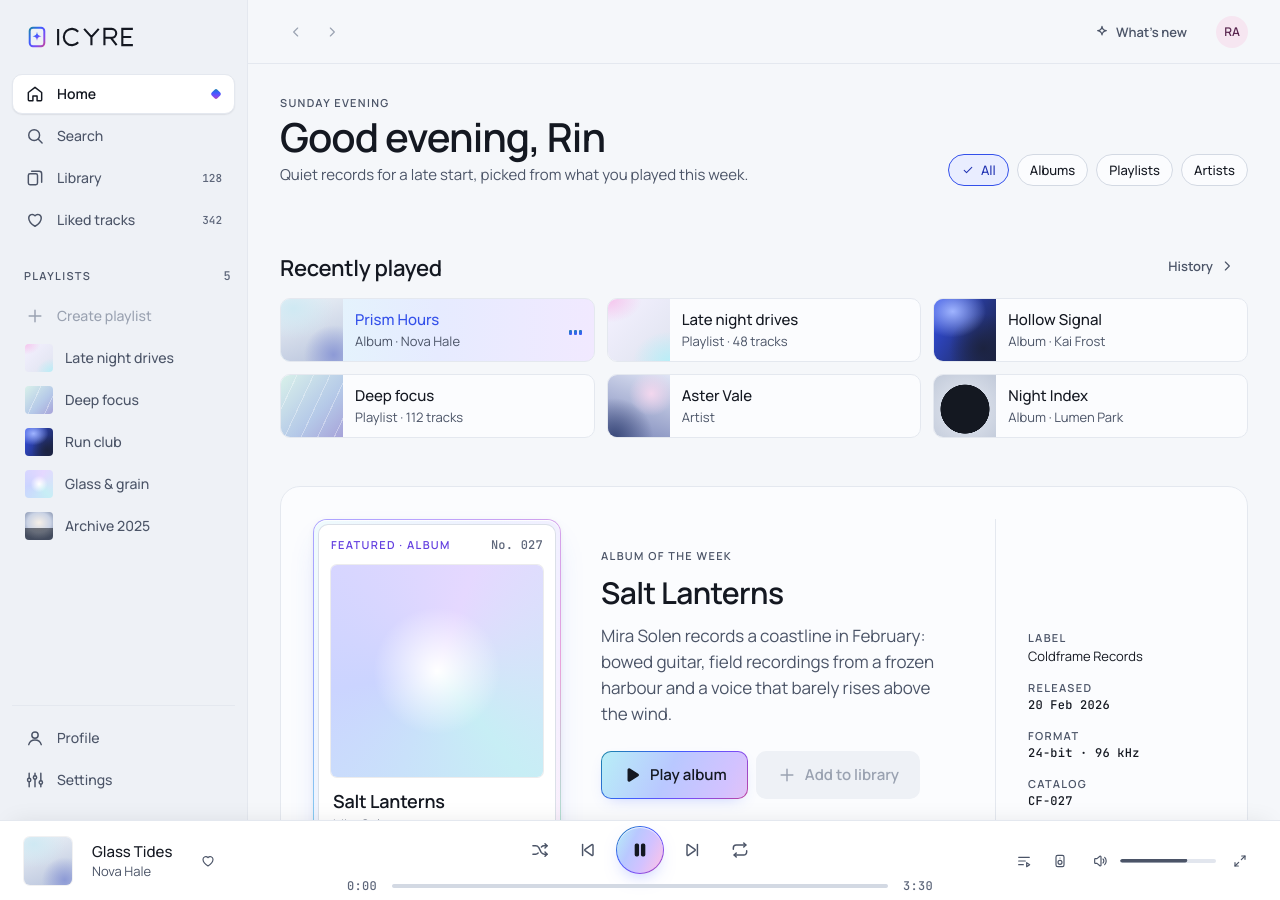
Test: PlayerBar — Queue drawer, Like, Device picker, Expanded player › opens the expanded player, controls playback, likes, and navigates to the album
Click the button named "Open expanded player" at {"x": 1240, "y": 860}, box [1224,844,1256,876]
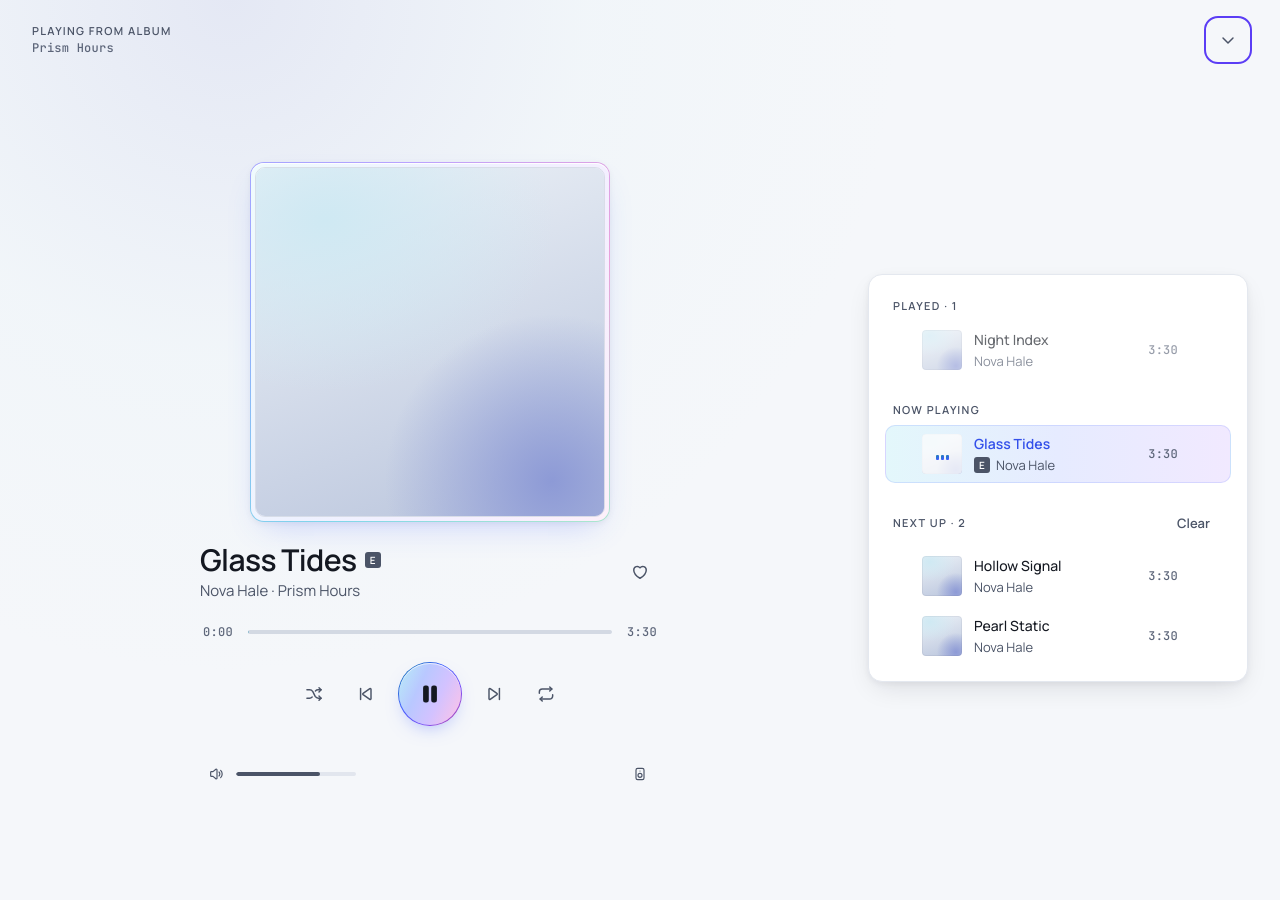
expect the heading "Glass Tides" is shown: met, box [200,542,356,578]
expect the text "Playing from album" is shown: met, box [32,24,172,38]
// Toggle play/pause inside expanded player.
Click the button named "Pause" at {"x": 430, "y": 694}, box [398,662,462,726]
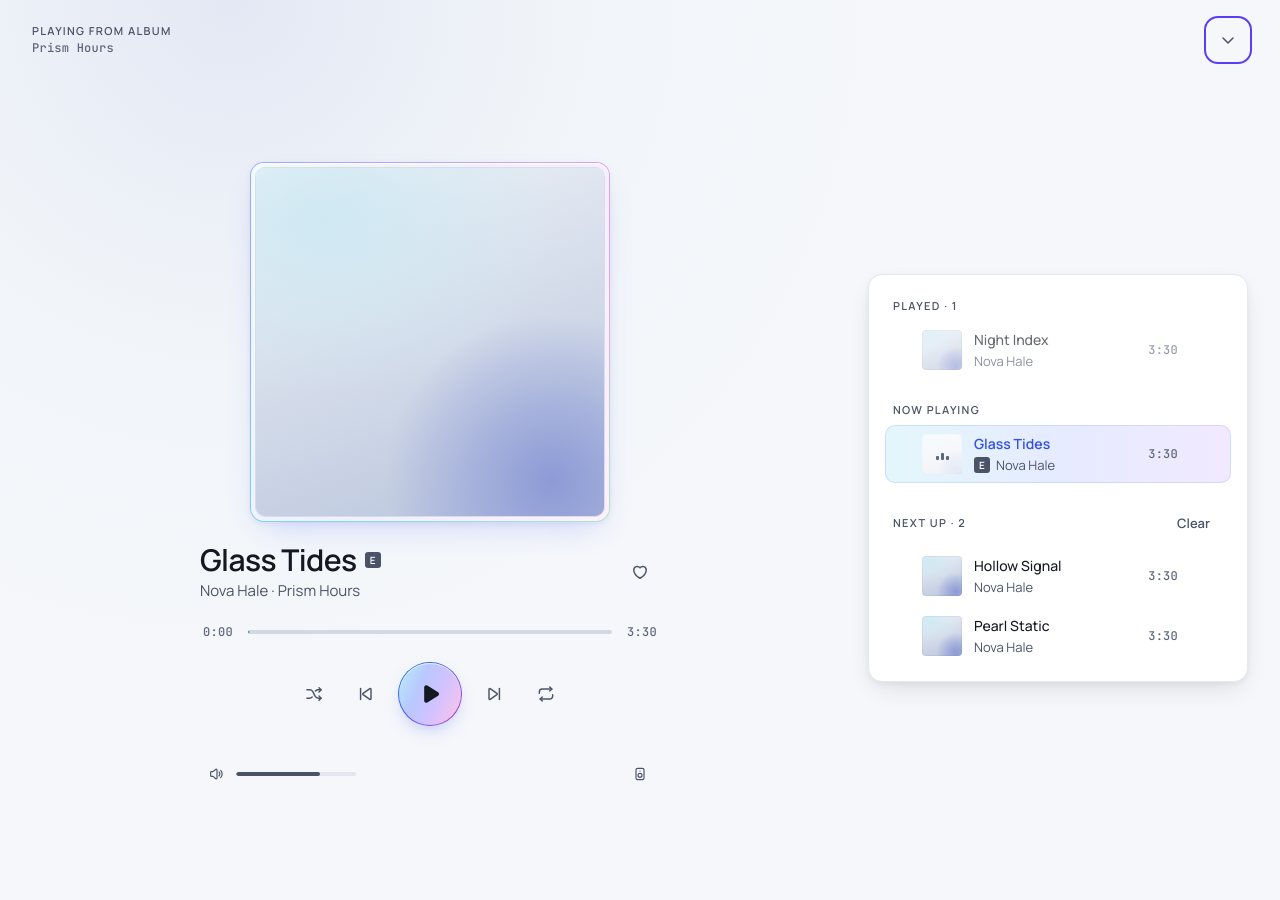
// Like inside expanded player.
Click the button named "Save to Liked tracks" at {"x": 640, "y": 572}, box [620,552,660,592]
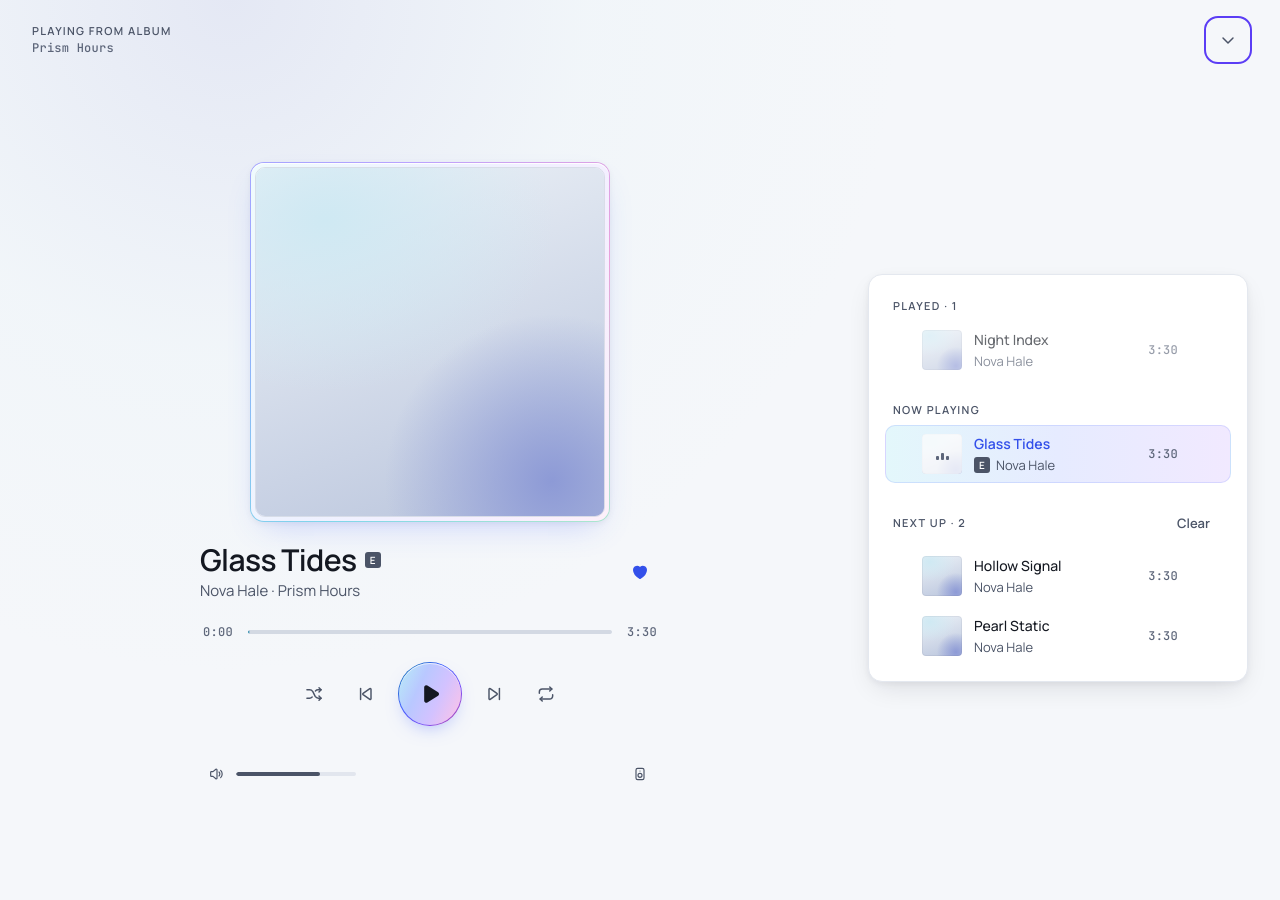
// Navigate to album from expanded player and verify it closes.
Click the link "Prism Hours" at {"x": 319, "y": 590}, box [278,580,360,601]
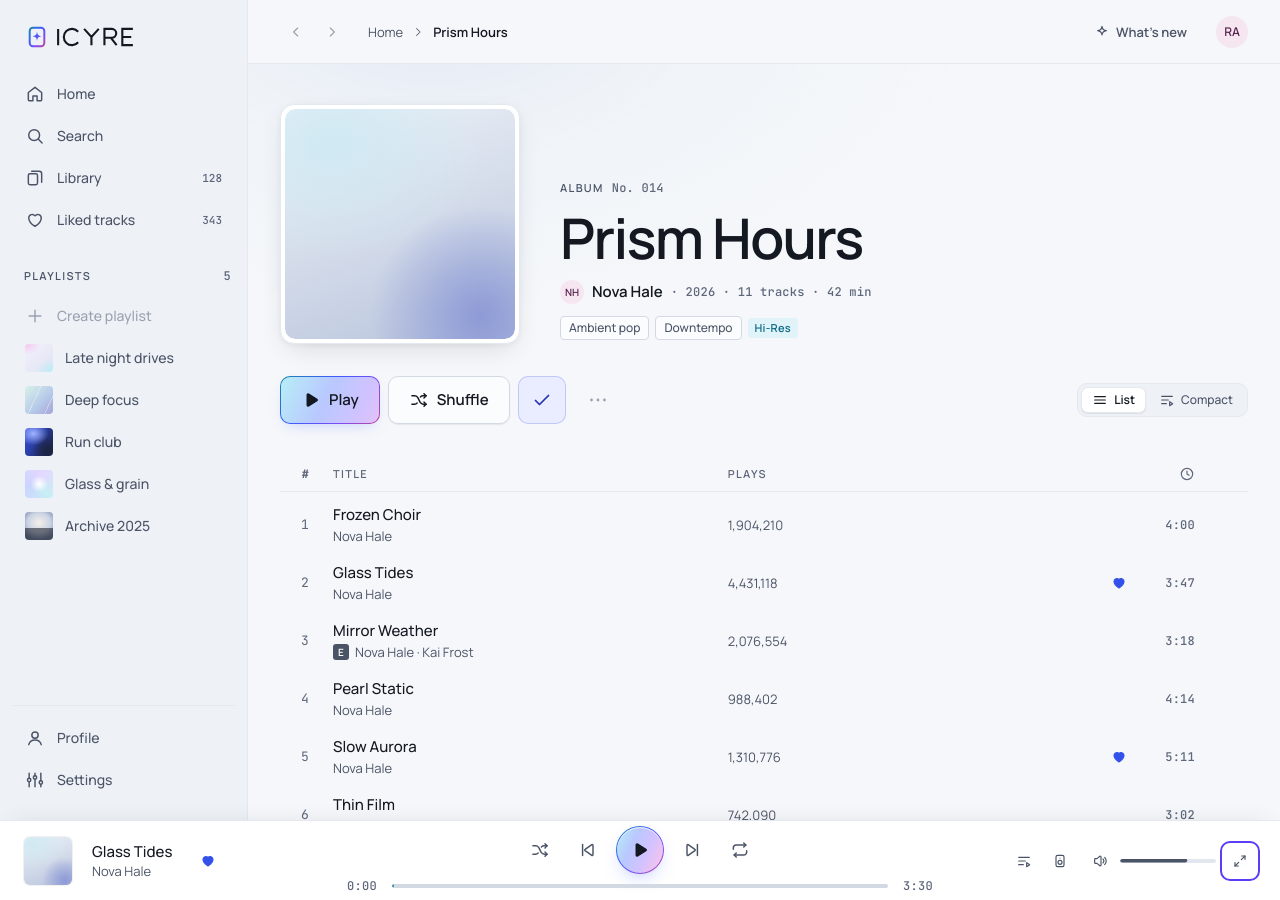
expect the text "Now playing" is gone: met
